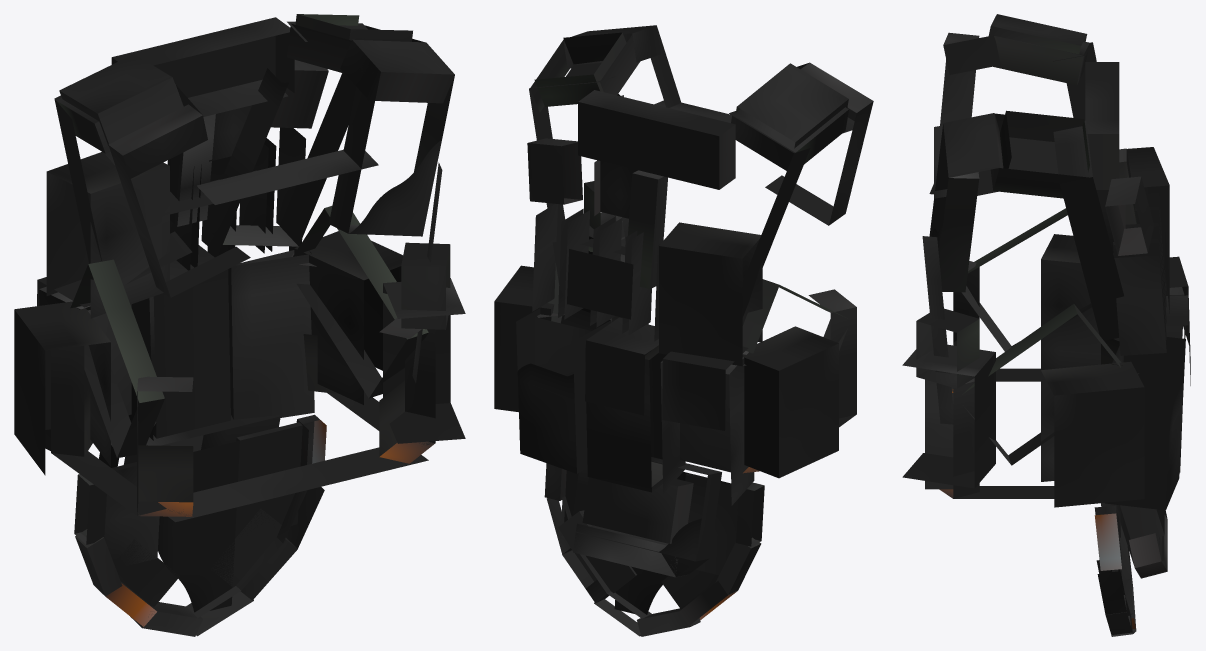
File: sobr_kit.obj
3 renders of one model, left to right at view 1: azimuth 30°, elevation 25°; view 2: azimuth 150°, elevation 25°; view 3: azimuth 270°, elevation 25°, orthographic. The views are drawn at different scales.
Parts seen in each view (by area): view 1: plane; view 2: plane; view 3: plane.
Part boxes in pixels (x1,y1,x2,y2): plane: (14,14,465,636); plane: (494,25,873,636); plane: (902,14,1190,636).
Bounding box in the file's own units: 0.7741 × 1.27 × 0.5862.
